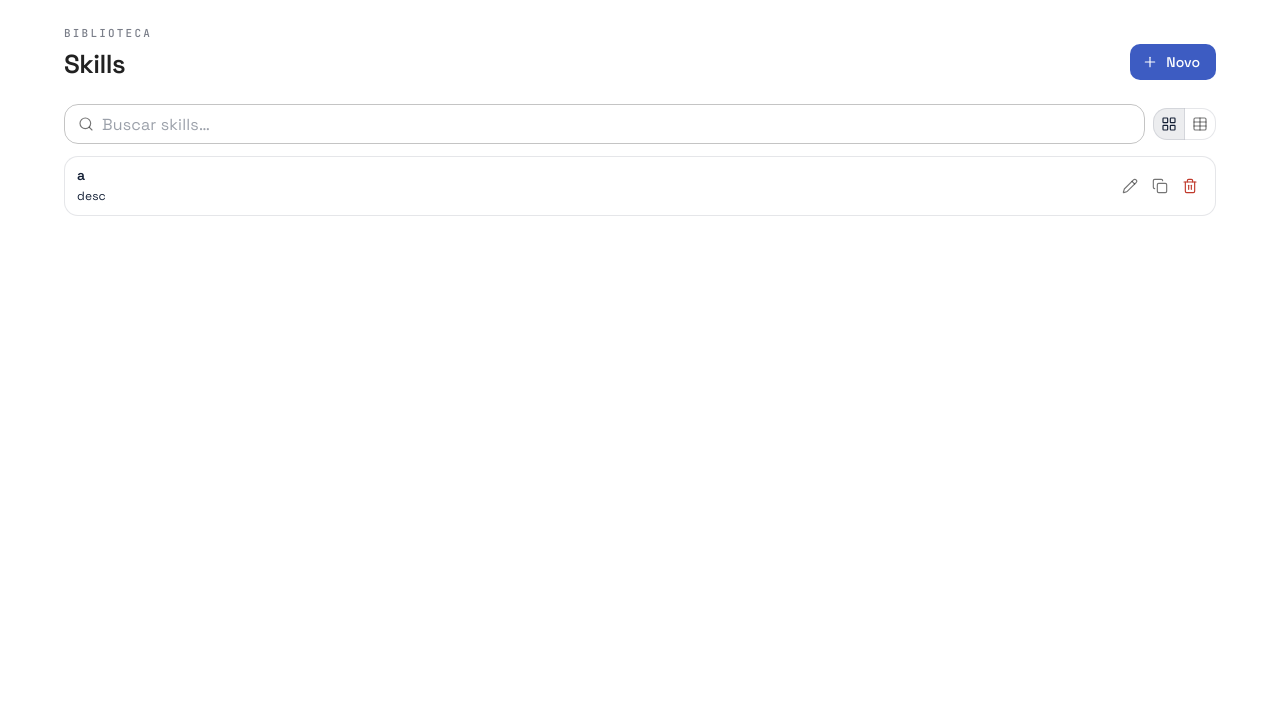
Test: <CustomizationListScreen> › opens a drawer when a workspace card is clicked
Click the element with test id "entity-grid-card-skill-workspace/urn:skill:a" at (640, 186), box left=64, top=156, right=1216, bottom=216
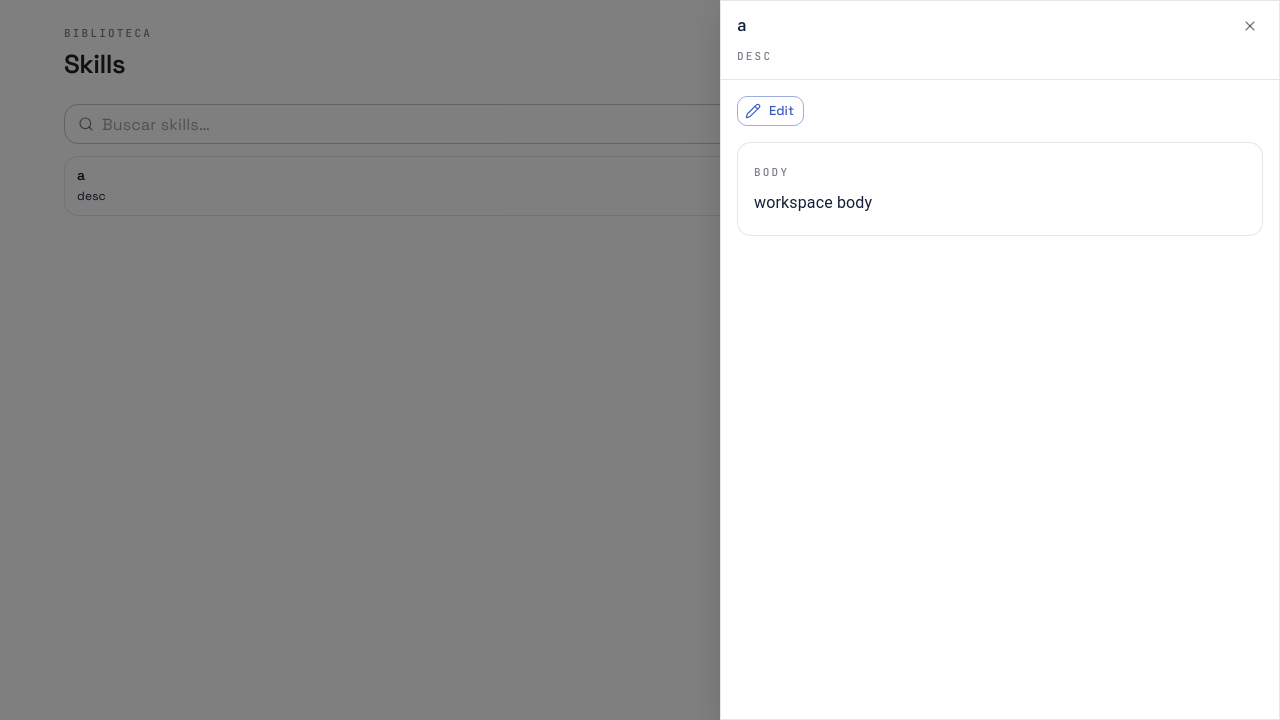
expect the dialog with test id "detail-drawer-customization" is shown: met, box left=720, top=0, right=1279, bottom=719
expect the text "workspace body" is shown: met, box left=754, top=193, right=872, bottom=212
expect the button "Edit" is shown: met, box left=737, top=96, right=804, bottom=126
